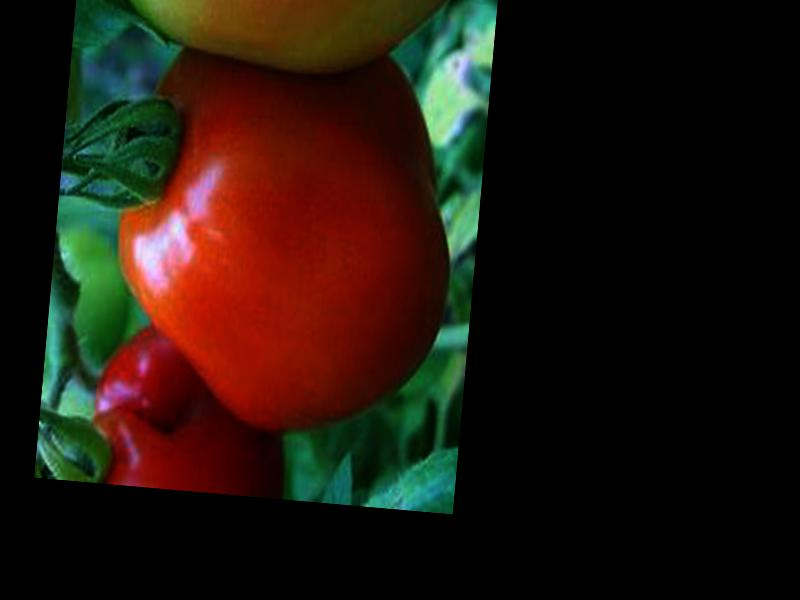Tomato: (102, 51, 465, 445)
